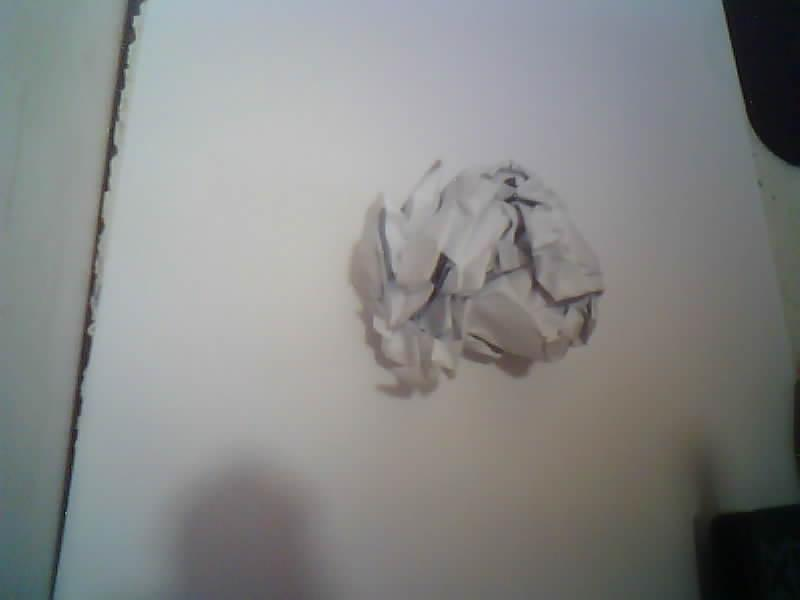biodegradable: (355, 161, 602, 384)
